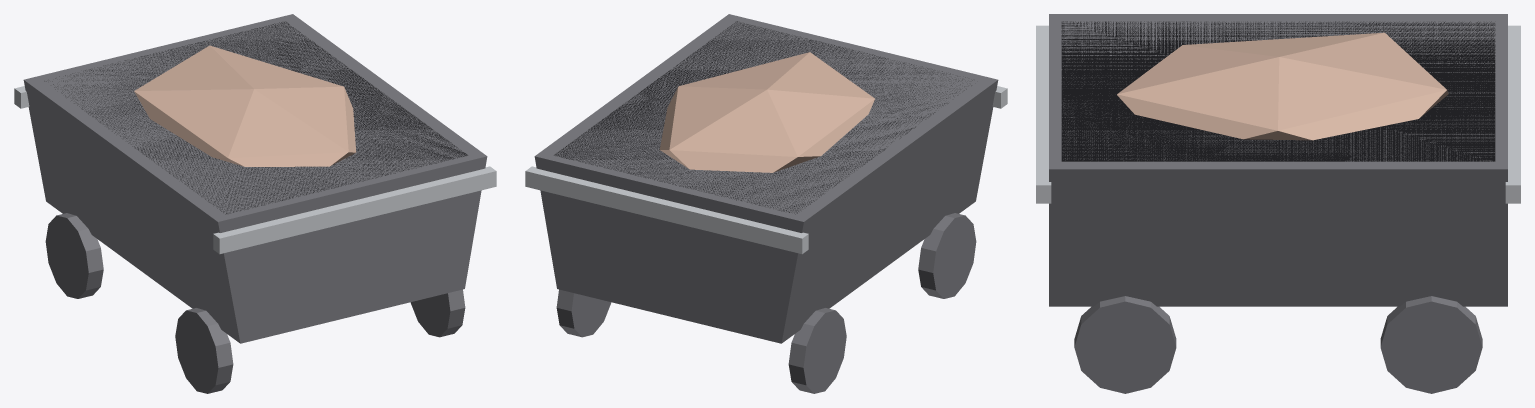
The model's file is mine_cart.glb.
3 views of the same model, side by side, from view 1: azimuth 30°, elevation 25°; view 2: azimuth 150°, elevation 25°; view 3: azimuth 270°, elevation 25° (orthographic). The views are drawn at different scales.
Visible parts, largest first — view 1: mine_cart; view 2: mine_cart; view 3: mine_cart.
Part boxes in pixels (<box>): mine_cart: <box>14,14,496,393</box>; mine_cart: <box>525,14,1007,393</box>; mine_cart: <box>1036,14,1520,393</box>.
Bounding box in the file's own units: 1.48 × 1.15 × 1.9.
